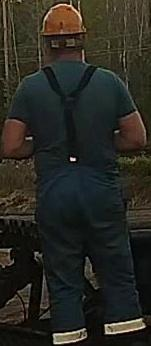helmet: (40, 3, 86, 42)
